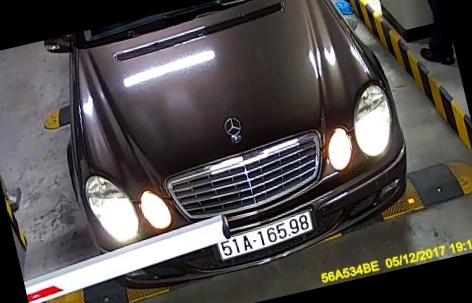plate: (212, 209, 318, 264)
